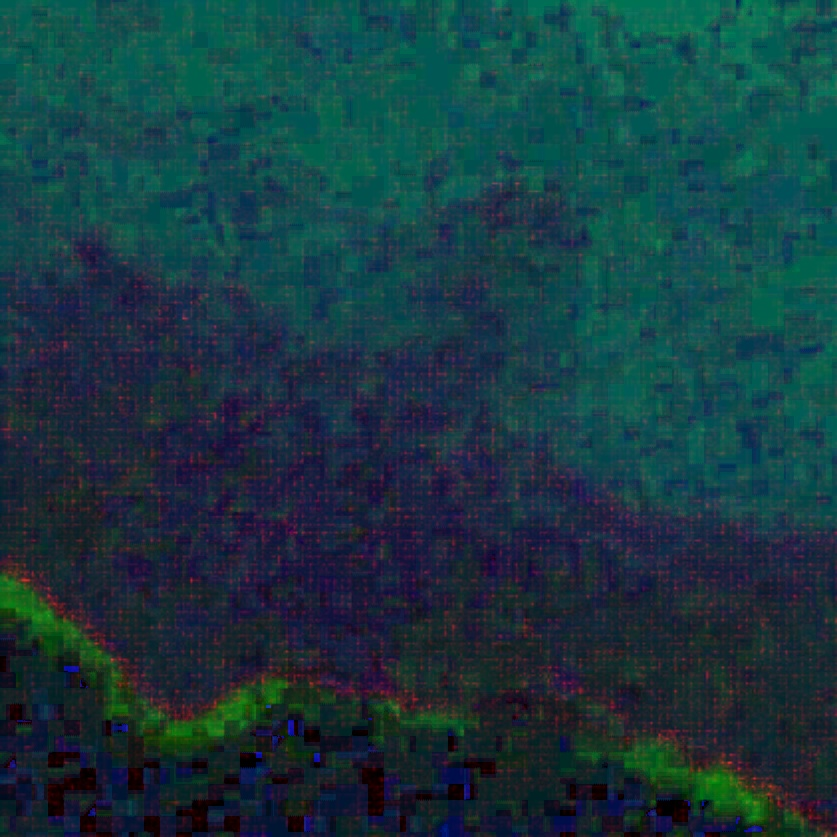rip_current: (292, 132, 633, 507)
